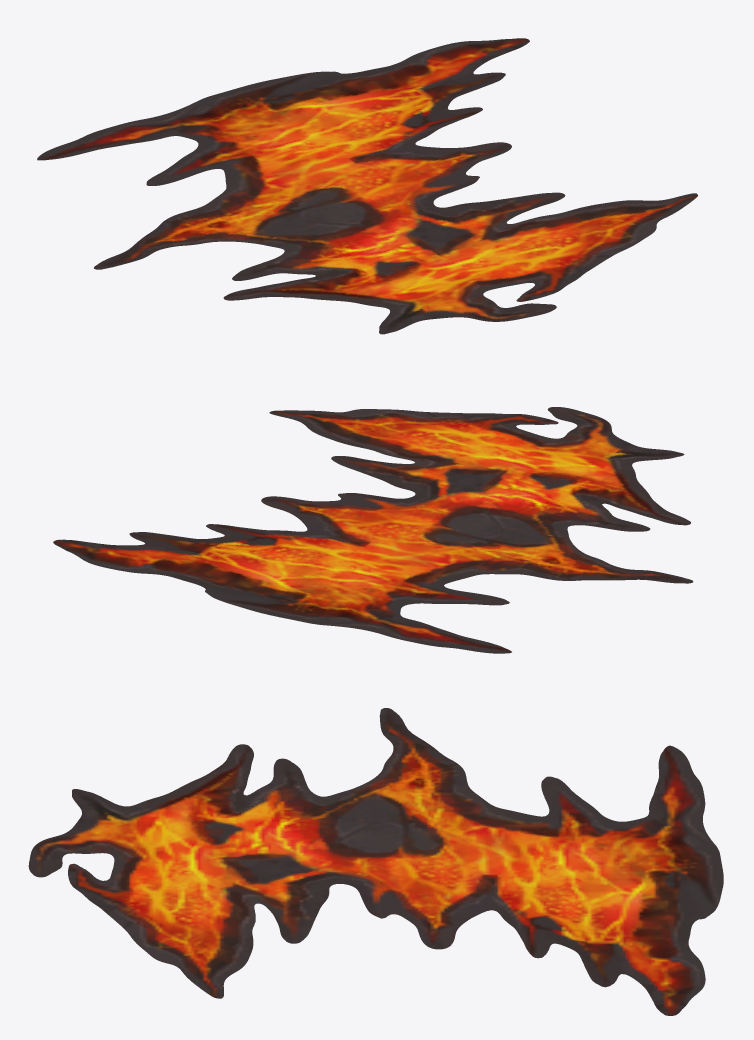
The model's file is rongysy_dx002.FBX.
3 renders of one model, top to bottom at view 1: azimuth 30°, elevation 25°; view 2: azimuth 150°, elevation 25°; view 3: azimuth 270°, elevation 25°, orthographic. The views are drawn at different scales.
Visible parts, largest first — view 1: rongysy_dx002; view 2: rongysy_dx002; view 3: rongysy_dx002.
Part boxes in pixels (x1,y1,x2,y2): rongysy_dx002: (37, 38, 697, 334); rongysy_dx002: (53, 407, 693, 653); rongysy_dx002: (28, 708, 723, 1015).
Bounding box in the file's own units: 198 × 5.3e-14 × 187.
